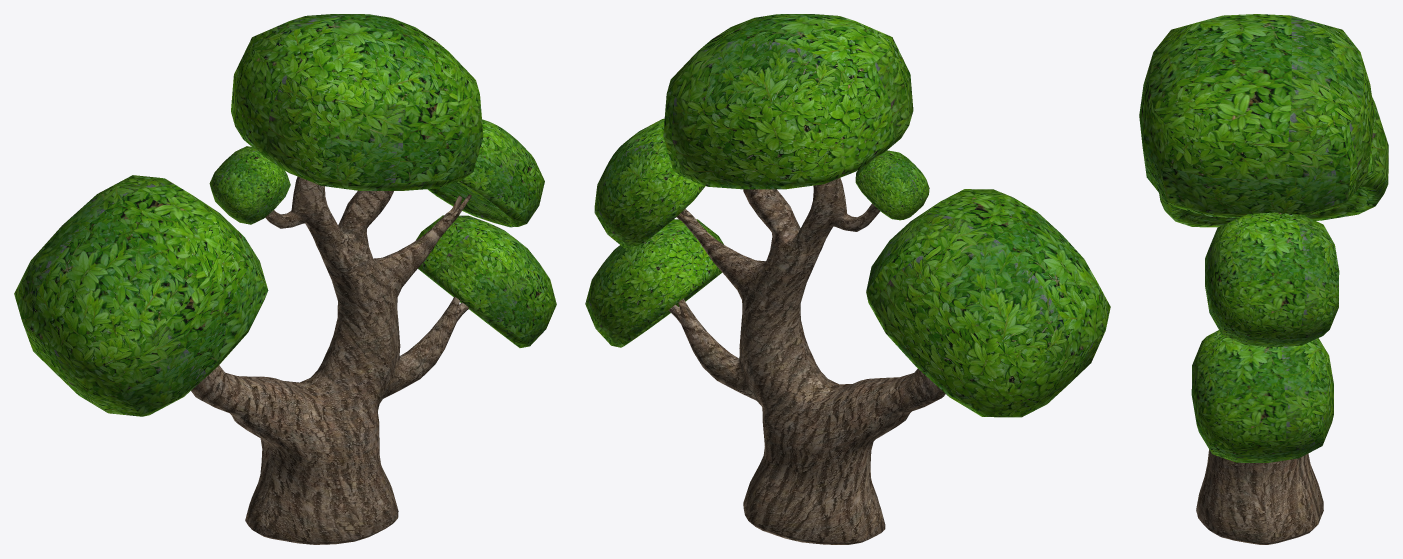
The model's file is Tree.fbx.
3 views of the same model, side by side, from view 1: azimuth 30°, elevation 25°; view 2: azimuth 150°, elevation 25°; view 3: azimuth 270°, elevation 25° (orthographic). The views are drawn at different scales.
Parts seen in each view (by area): view 1: pCube8; view 2: pCube8; view 3: pCube8.
Part boxes in pixels (bbox=[...]): pCube8: bbox=[14, 14, 556, 544]; pCube8: bbox=[585, 14, 1110, 544]; pCube8: bbox=[1139, 14, 1388, 544].
Size of the model in its own units: 7.99 by 7.6 by 3.46.
2 materials, 2 textured.
